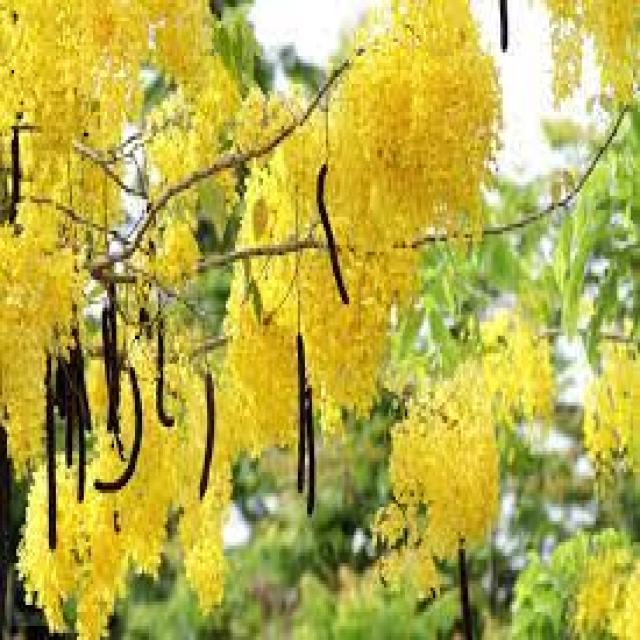Amaltas: (224, 55, 557, 602), (0, 230, 275, 638), (391, 321, 640, 640), (18, 22, 204, 256), (348, 46, 475, 273)
